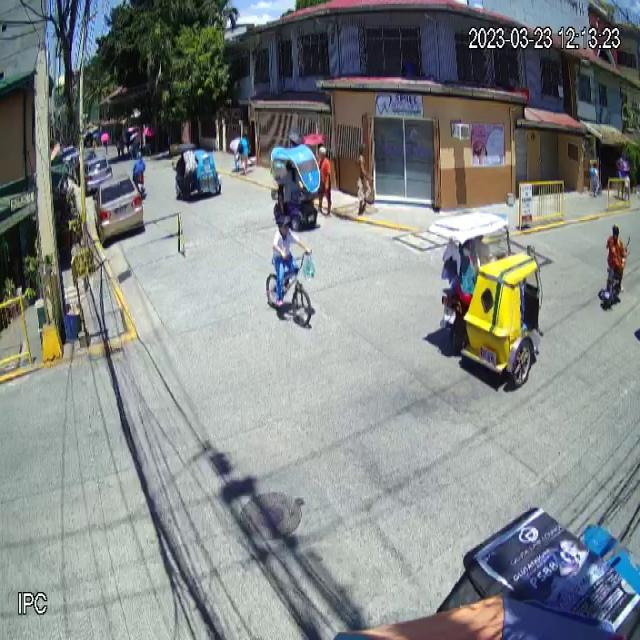Tricycle: (427, 210, 545, 388)
